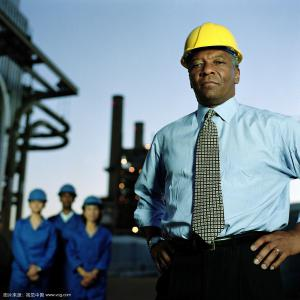blue: (82, 197, 103, 223), (28, 189, 48, 215), (59, 186, 77, 209)
yellow: (180, 24, 244, 105)
